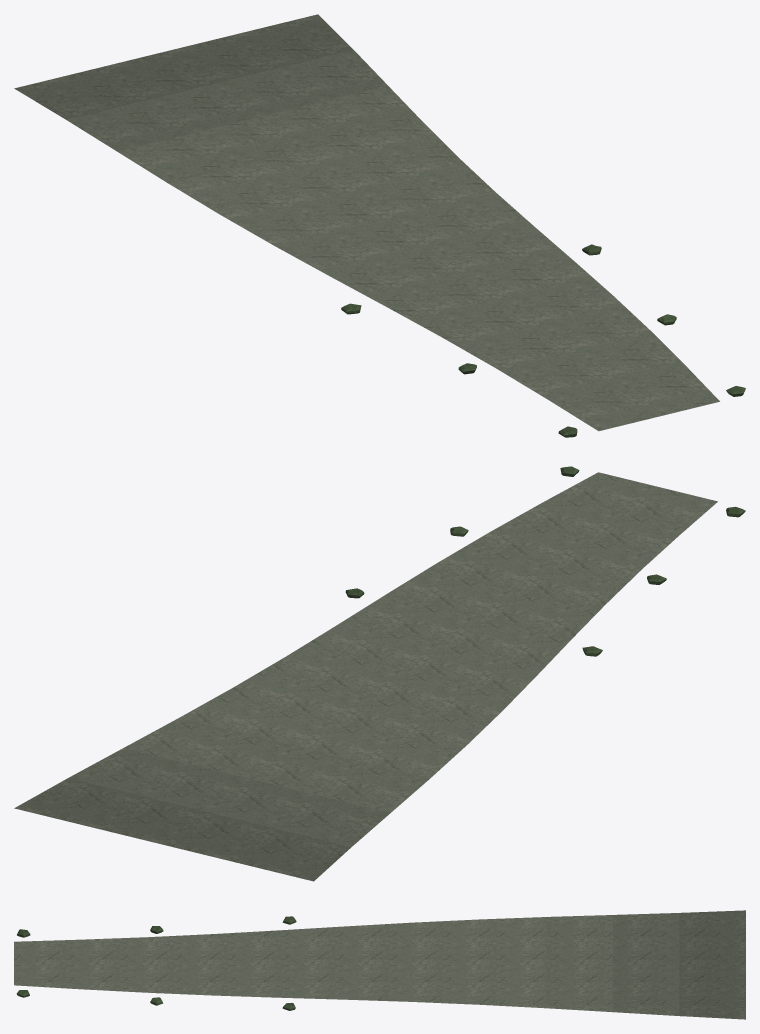
The model's file is horizon-path.mobile.glb.
3 views of the same model, one above another, from view 1: azimuth 30°, elevation 25°; view 2: azimuth 150°, elevation 25°; view 3: azimuth 270°, elevation 25° (orthographic). The views are drawn at different scales.
Visible parts, largest first — view 1: SA_F02_MESH_60, SA_F02_MESH_61; view 2: SA_F02_MESH_60, SA_F02_MESH_61; view 3: SA_F02_MESH_60, SA_F02_MESH_61.
Boxes of the visible parts, box(x1,y1,x2,y2) form: SA_F02_MESH_60: box(14, 14, 719, 431); SA_F02_MESH_61: box(341, 244, 745, 437); SA_F02_MESH_60: box(14, 472, 717, 881); SA_F02_MESH_61: box(345, 466, 745, 656); SA_F02_MESH_60: box(14, 910, 745, 1019); SA_F02_MESH_61: box(16, 916, 296, 1010).
Bounding box in the file's own units: 6 × 0.113 × 17.
Materials: 2 (2 with a texture image).
